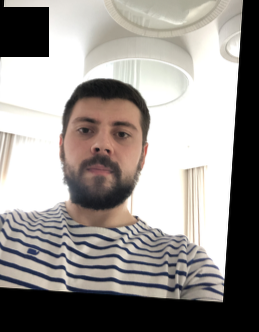without_mask: (64, 112, 139, 212)
